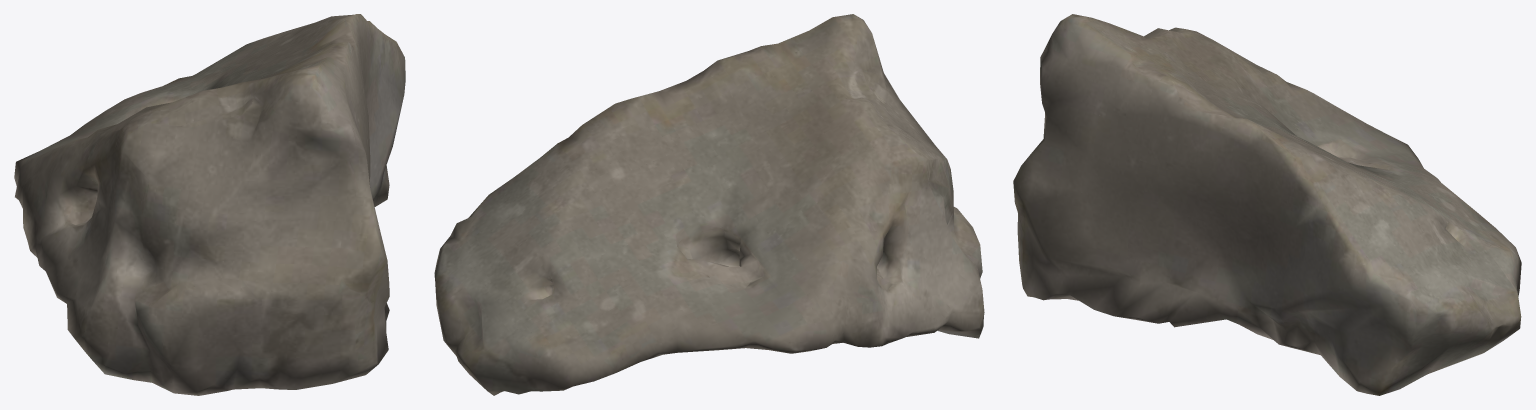
File: rock_moon_rock_06.dbf3eaf906.glb
3 renders of one model, left to right at view 1: azimuth 30°, elevation 25°; view 2: azimuth 150°, elevation 25°; view 3: azimuth 270°, elevation 25°, orthographic. The views are drawn at different scales.
Visible parts, largest first — view 1: moon_rock_06; view 2: moon_rock_06; view 3: moon_rock_06.
Part boxes in pixels (x1,y1,x2,y2): moon_rock_06: [14, 14, 405, 395]; moon_rock_06: [434, 14, 984, 395]; moon_rock_06: [1013, 14, 1521, 395].
Size of the model in its own units: 0.9329 by 0.5974 by 0.9951.
1 material, 1 textured.
